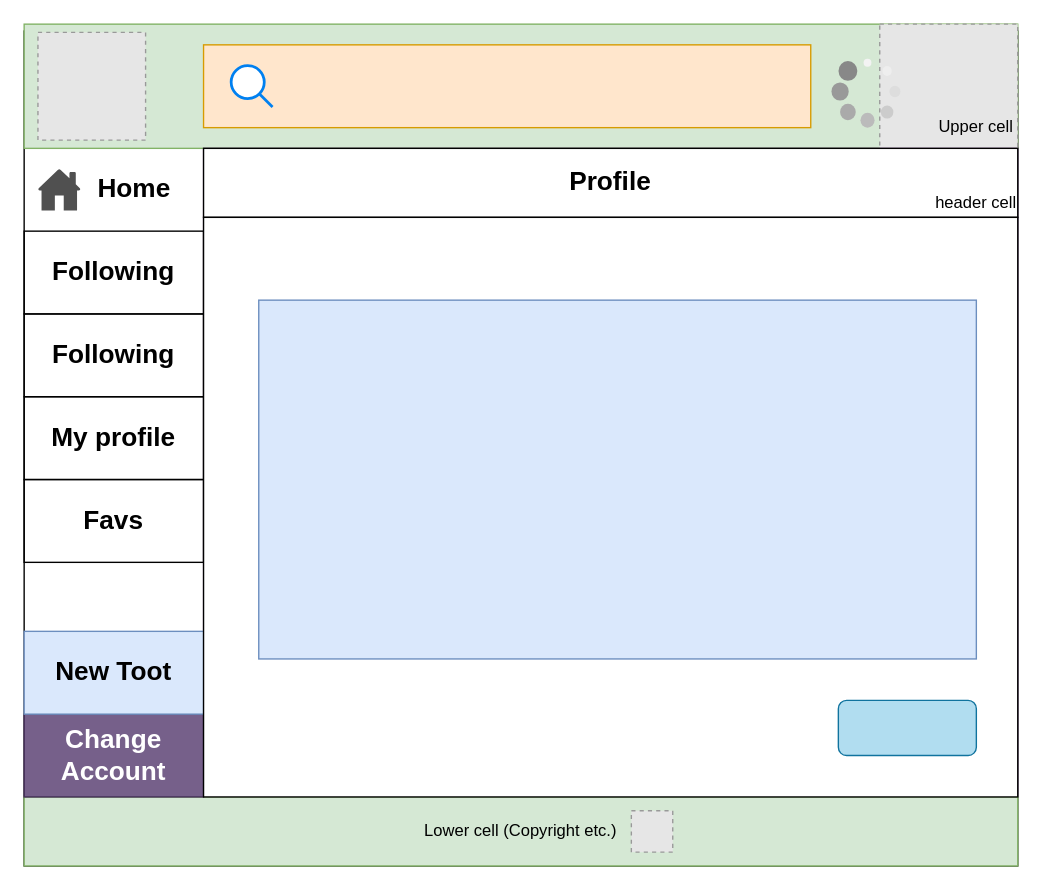
Some shapes in this 1056 by 890 pixel diagram are drawn without their labels. Grey dashed boxes stand in for pictures. Here are the shapes that lost their labels. From the top down, the box of each, then its label:
(202, 43, 811, 128): Search tool
(257, 299, 976, 659): Text
(837, 699, 976, 756): POST
